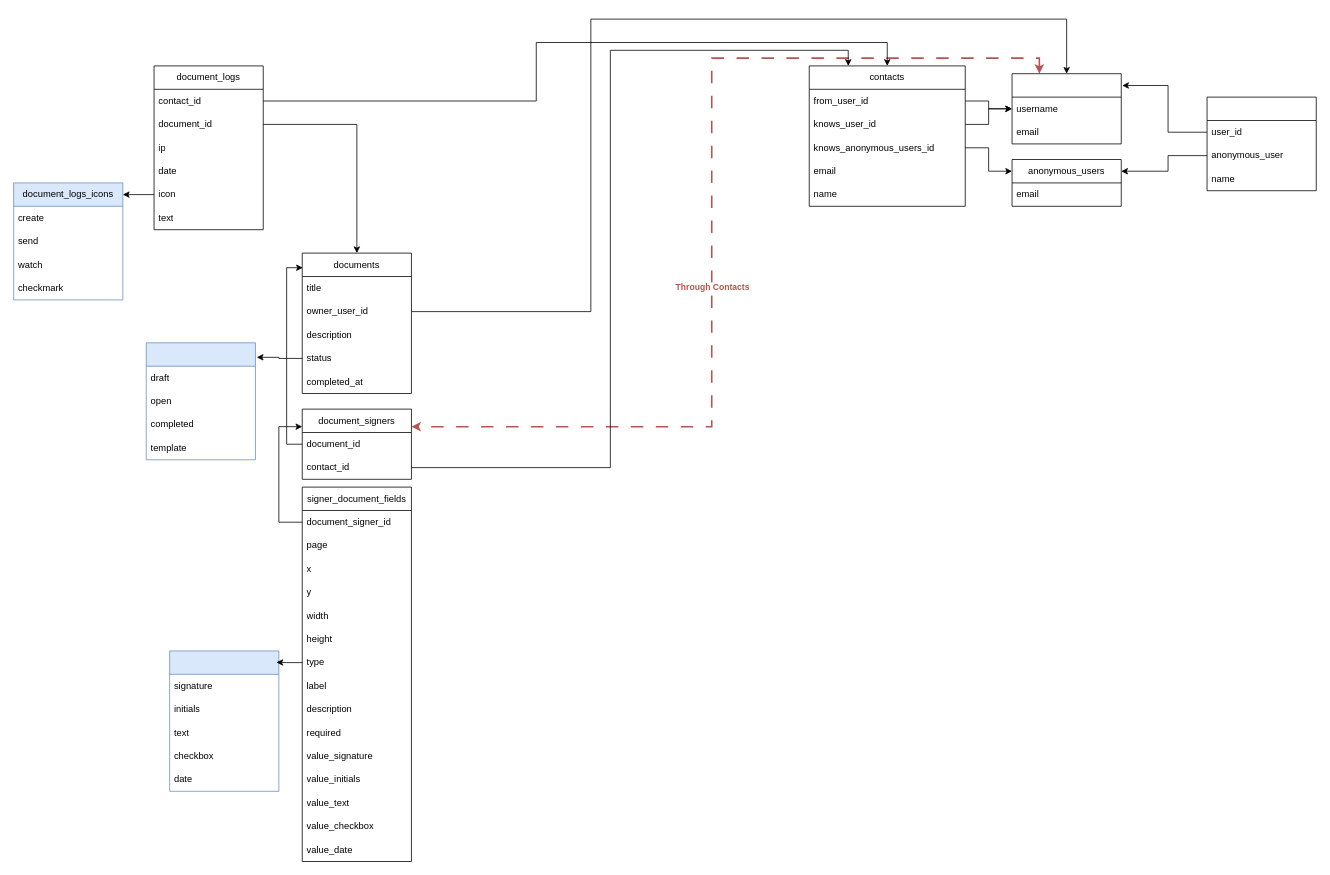
Some shapes in this 1330 by 875 pixel diagram are drawn without their labels. Here are the shapes that lost their labels. From the top down, the box of each, then its label:
(1011, 73, 1121, 144): users
(1206, 96, 1316, 191): signs
(145, 342, 255, 460): document_status
(169, 650, 279, 791): document_field_types
